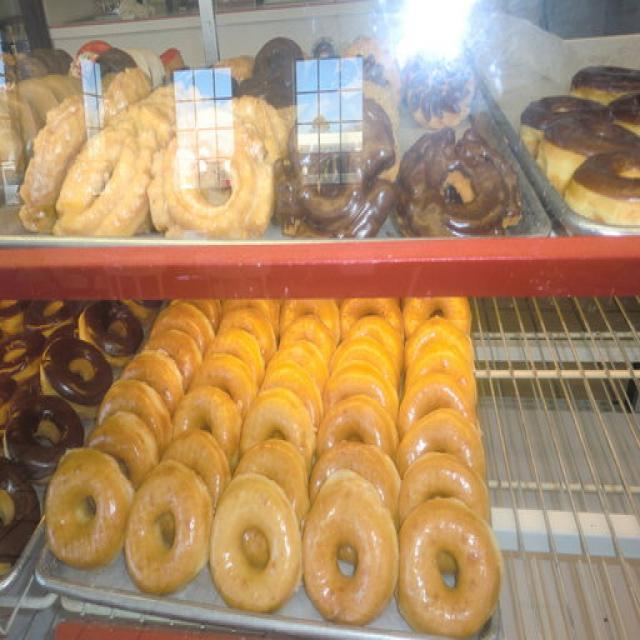Donuts: (2, 31, 639, 640)
